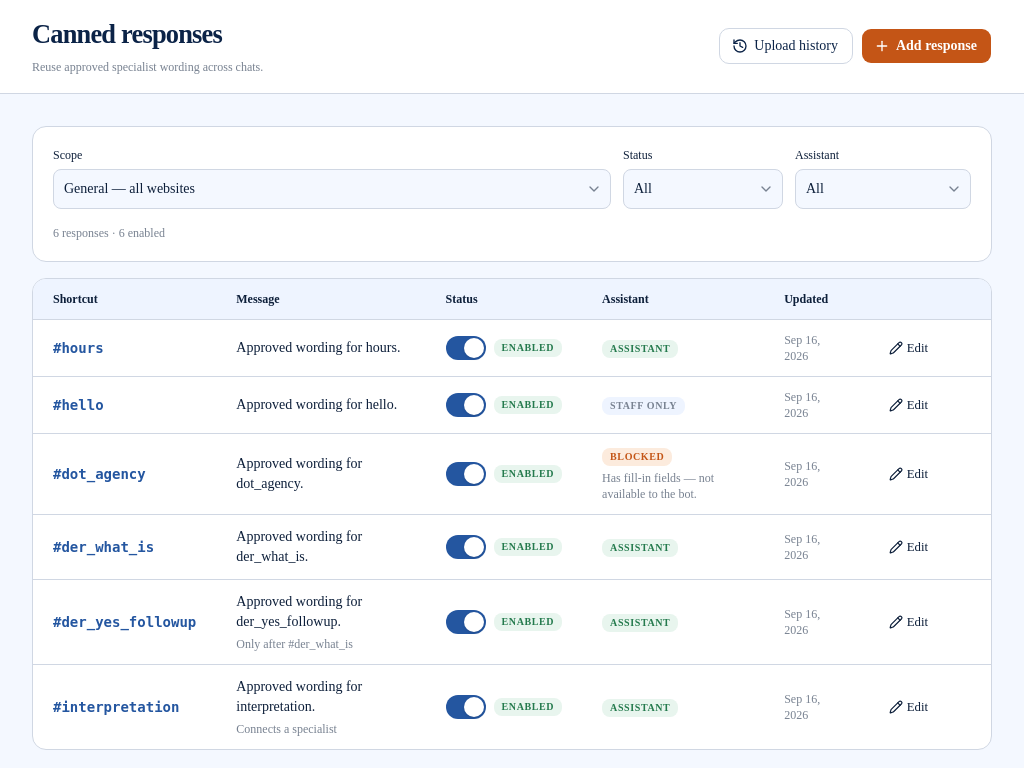
Test: canned responses: what the assistant can use › filters the library by what the assistant can do
The width and height of the screenshot is (1024, 768).
Click the dropdown named "Assistant". click: [883, 189]
box: [795,169,971,209]
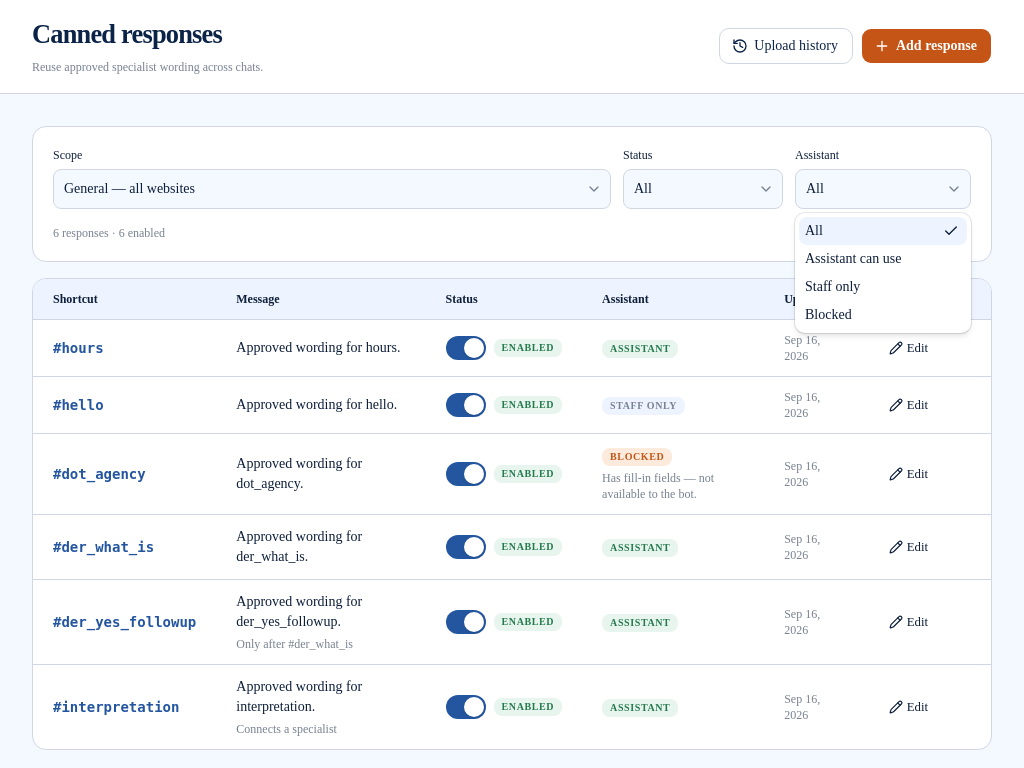
Click the option "Staff only". click: [833, 286]
box: [805,279,860,294]
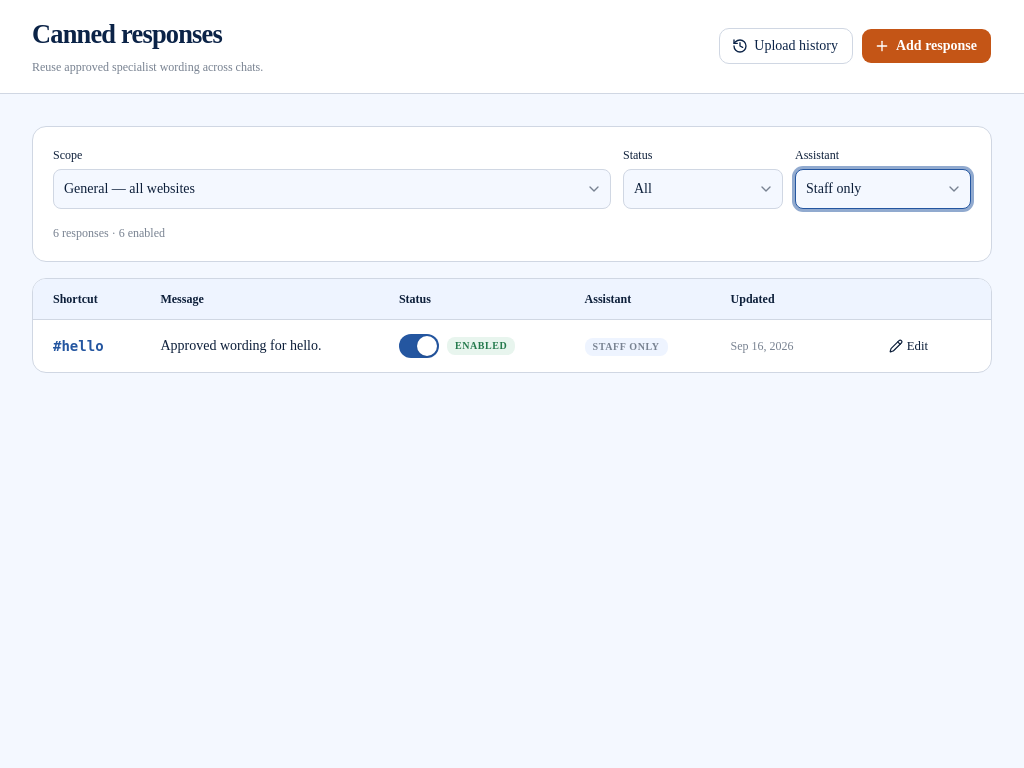
Check: the text "#hello" is shown, box [53,338,104,354]
Check: the text "#hours" is gone
Click the dropdown named "Assistant". click: [883, 189]
box: [795,169,971,209]
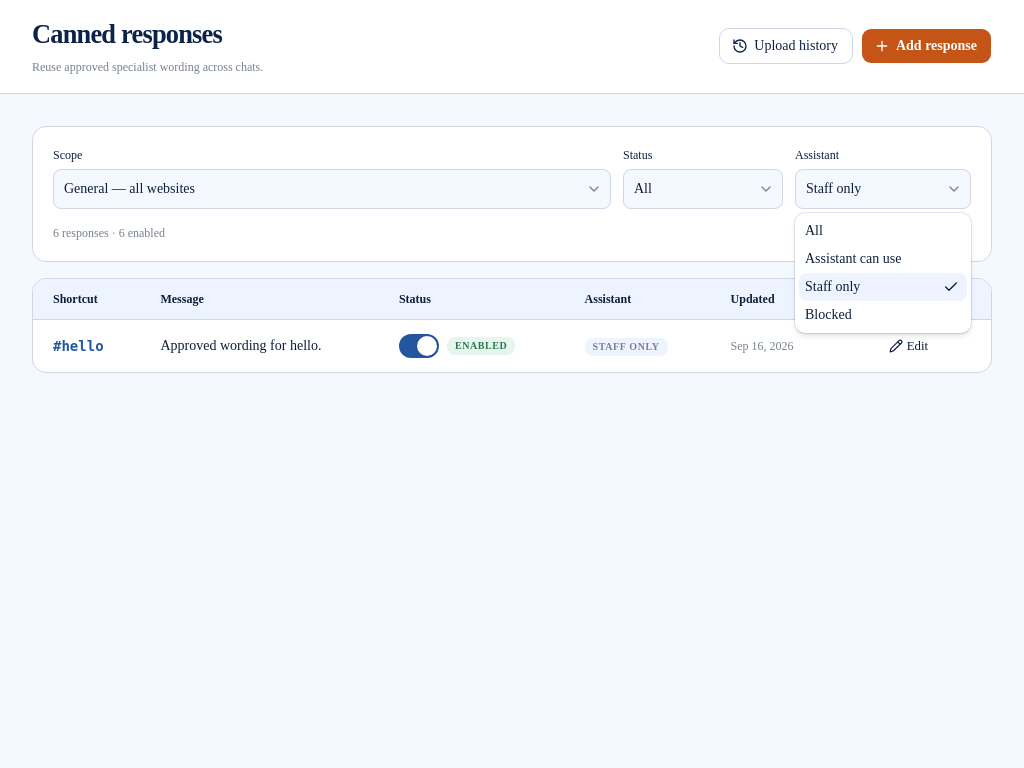
Click the option "Blocked". click: [828, 314]
box: [805,307,852,322]
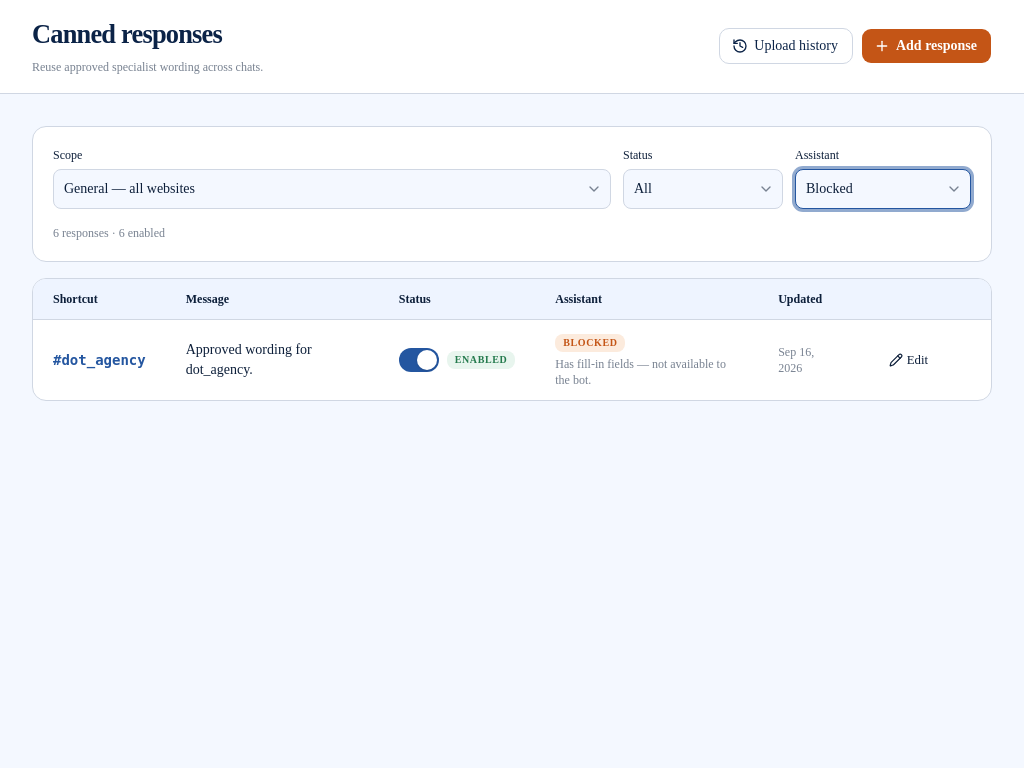
Check: the text "#hello" is gone
Check: the text "#dot_agency" is shown, box [53,352,146,368]
